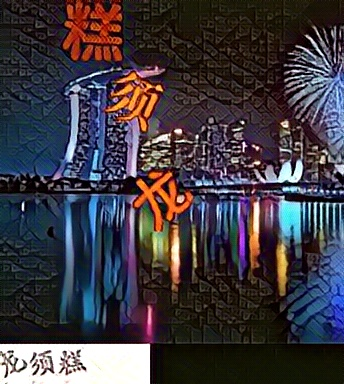B8E2: (60, 1, 125, 67)
C1FA: (129, 165, 194, 231)
D0EB: (101, 66, 166, 132)
